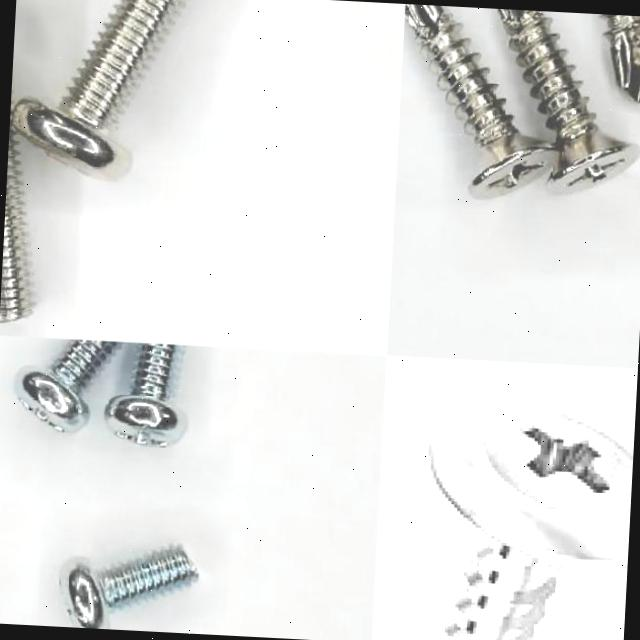Screw: (426, 400, 633, 640), (14, 0, 180, 180), (405, 4, 554, 198), (497, 9, 640, 189), (61, 546, 198, 629), (17, 340, 124, 431), (105, 343, 186, 445), (0, 117, 31, 323), (604, 14, 640, 101)
